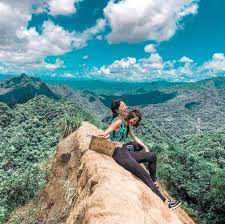people: (106, 100, 180, 208)
